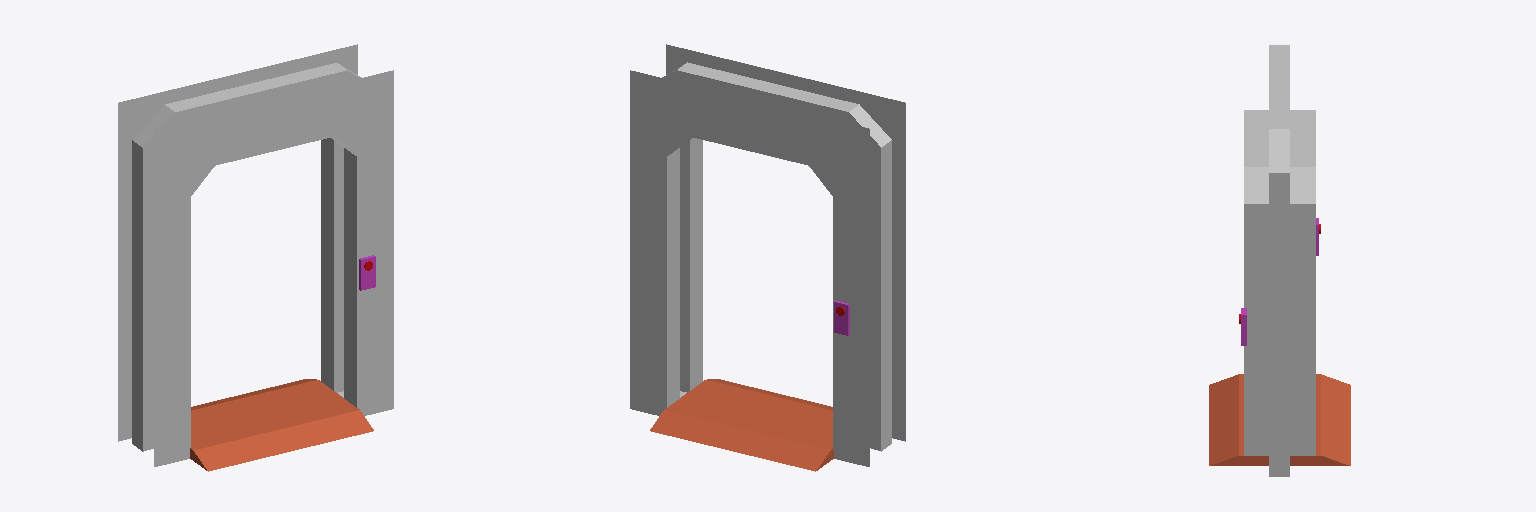
File: frame.obj
The picture shows the model from 3 angles: view 1: azimuth 30°, elevation 25°; view 2: azimuth 150°, elevation 25°; view 3: azimuth 270°, elevation 25°; orthographic projection.
Visible parts, largest first — view 1: frame; view 2: frame; view 3: frame.
Part boxes in pixels (left/top/right/bottom): frame: left=118, top=44, right=393, bottom=471; frame: left=630, top=44, right=905, bottom=471; frame: left=1209, top=45, right=1350, bottom=476.
Bounding box in the file's own units: 2.34 × 3.16 × 1.19.